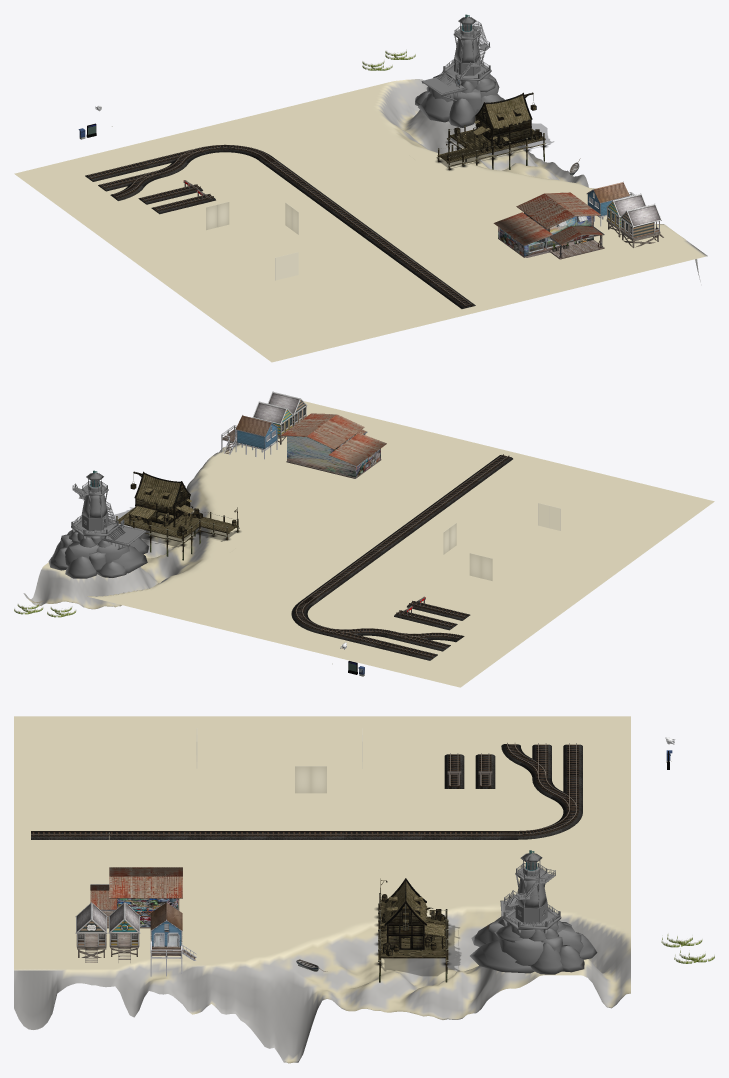
The picture shows the model from 3 angles, top to bottom: view 1: azimuth 30°, elevation 25°; view 2: azimuth 150°, elevation 25°; view 3: azimuth 270°, elevation 25°; orthographic projection. The views are drawn at different scales.
Visible parts, largest first — view 1: Terrain 14,2, Terrain 14,3, Terrain 15,3, Terrain 15,2, prim0-mesh (×11), Lamp glass & housing; view 2: Terrain 14,2, Terrain 14,3, Terrain 15,3, Terrain 15,2, prim0-mesh (×10), TRACKSTRAIGHT16 Rail (×11), Lamp glass & housing, Waterfront Cottage, roof, main structure - upper; view 3: Terrain 15,2, Terrain 14,2, Terrain 15,3, Terrain 14,3, prim0-mesh (×11), TRACKSTRAIGHT16 Rail (×11), Lamp glass & housing, Trompe Loeil - Suffolk Beach Hut Filey (×2), Rock base PHANTOM, roof, main structure - upper.
Boxes of the visible parts, box(x1,y1,x2,y2) form: Terrain 14,2: box(143, 214, 494, 362); Terrain 14,3: box(14, 119, 365, 267); Terrain 15,3: box(238, 79, 585, 213); Terrain 15,2: box(366, 175, 707, 307); prim0-mesh (×11): box(436, 92, 661, 259); Lamp glass & housing: box(415, 14, 504, 127); Terrain 14,2: box(367, 447, 714, 594); Terrain 14,3: box(240, 541, 587, 687); Terrain 15,3: box(23, 503, 366, 633); Terrain 15,2: box(186, 401, 493, 540); prim0-mesh (×10): box(109, 401, 386, 560); TRACKSTRAIGHT16 Rail (×11): box(307, 454, 512, 660); Lamp glass & housing: box(48, 470, 149, 578); Waterfront Cottage: box(237, 415, 277, 448); roof: box(235, 415, 278, 436); main structure - upper: box(82, 494, 107, 518); Terrain 15,2: box(14, 847, 322, 1063); Terrain 14,2: box(14, 716, 322, 846); Terrain 15,3: box(322, 847, 630, 1019); Terrain 14,3: box(322, 716, 630, 846); prim0-mesh (×11): box(75, 867, 460, 982); TRACKSTRAIGHT16 Rail (×11): box(31, 743, 582, 839); Lamp glass & housing: box(470, 850, 597, 974); Trompe Loeil - Suffolk Beach Hut Filey (×2): box(76, 933, 139, 962); Rock base PHANTOM: box(494, 918, 565, 942); roof: box(150, 902, 182, 931); main structure - upper: box(516, 879, 546, 908).
Size of what is drawn, in the model's own units: 128 by 44.73 by 145.
Materials: 201 (184 with a texture image).
